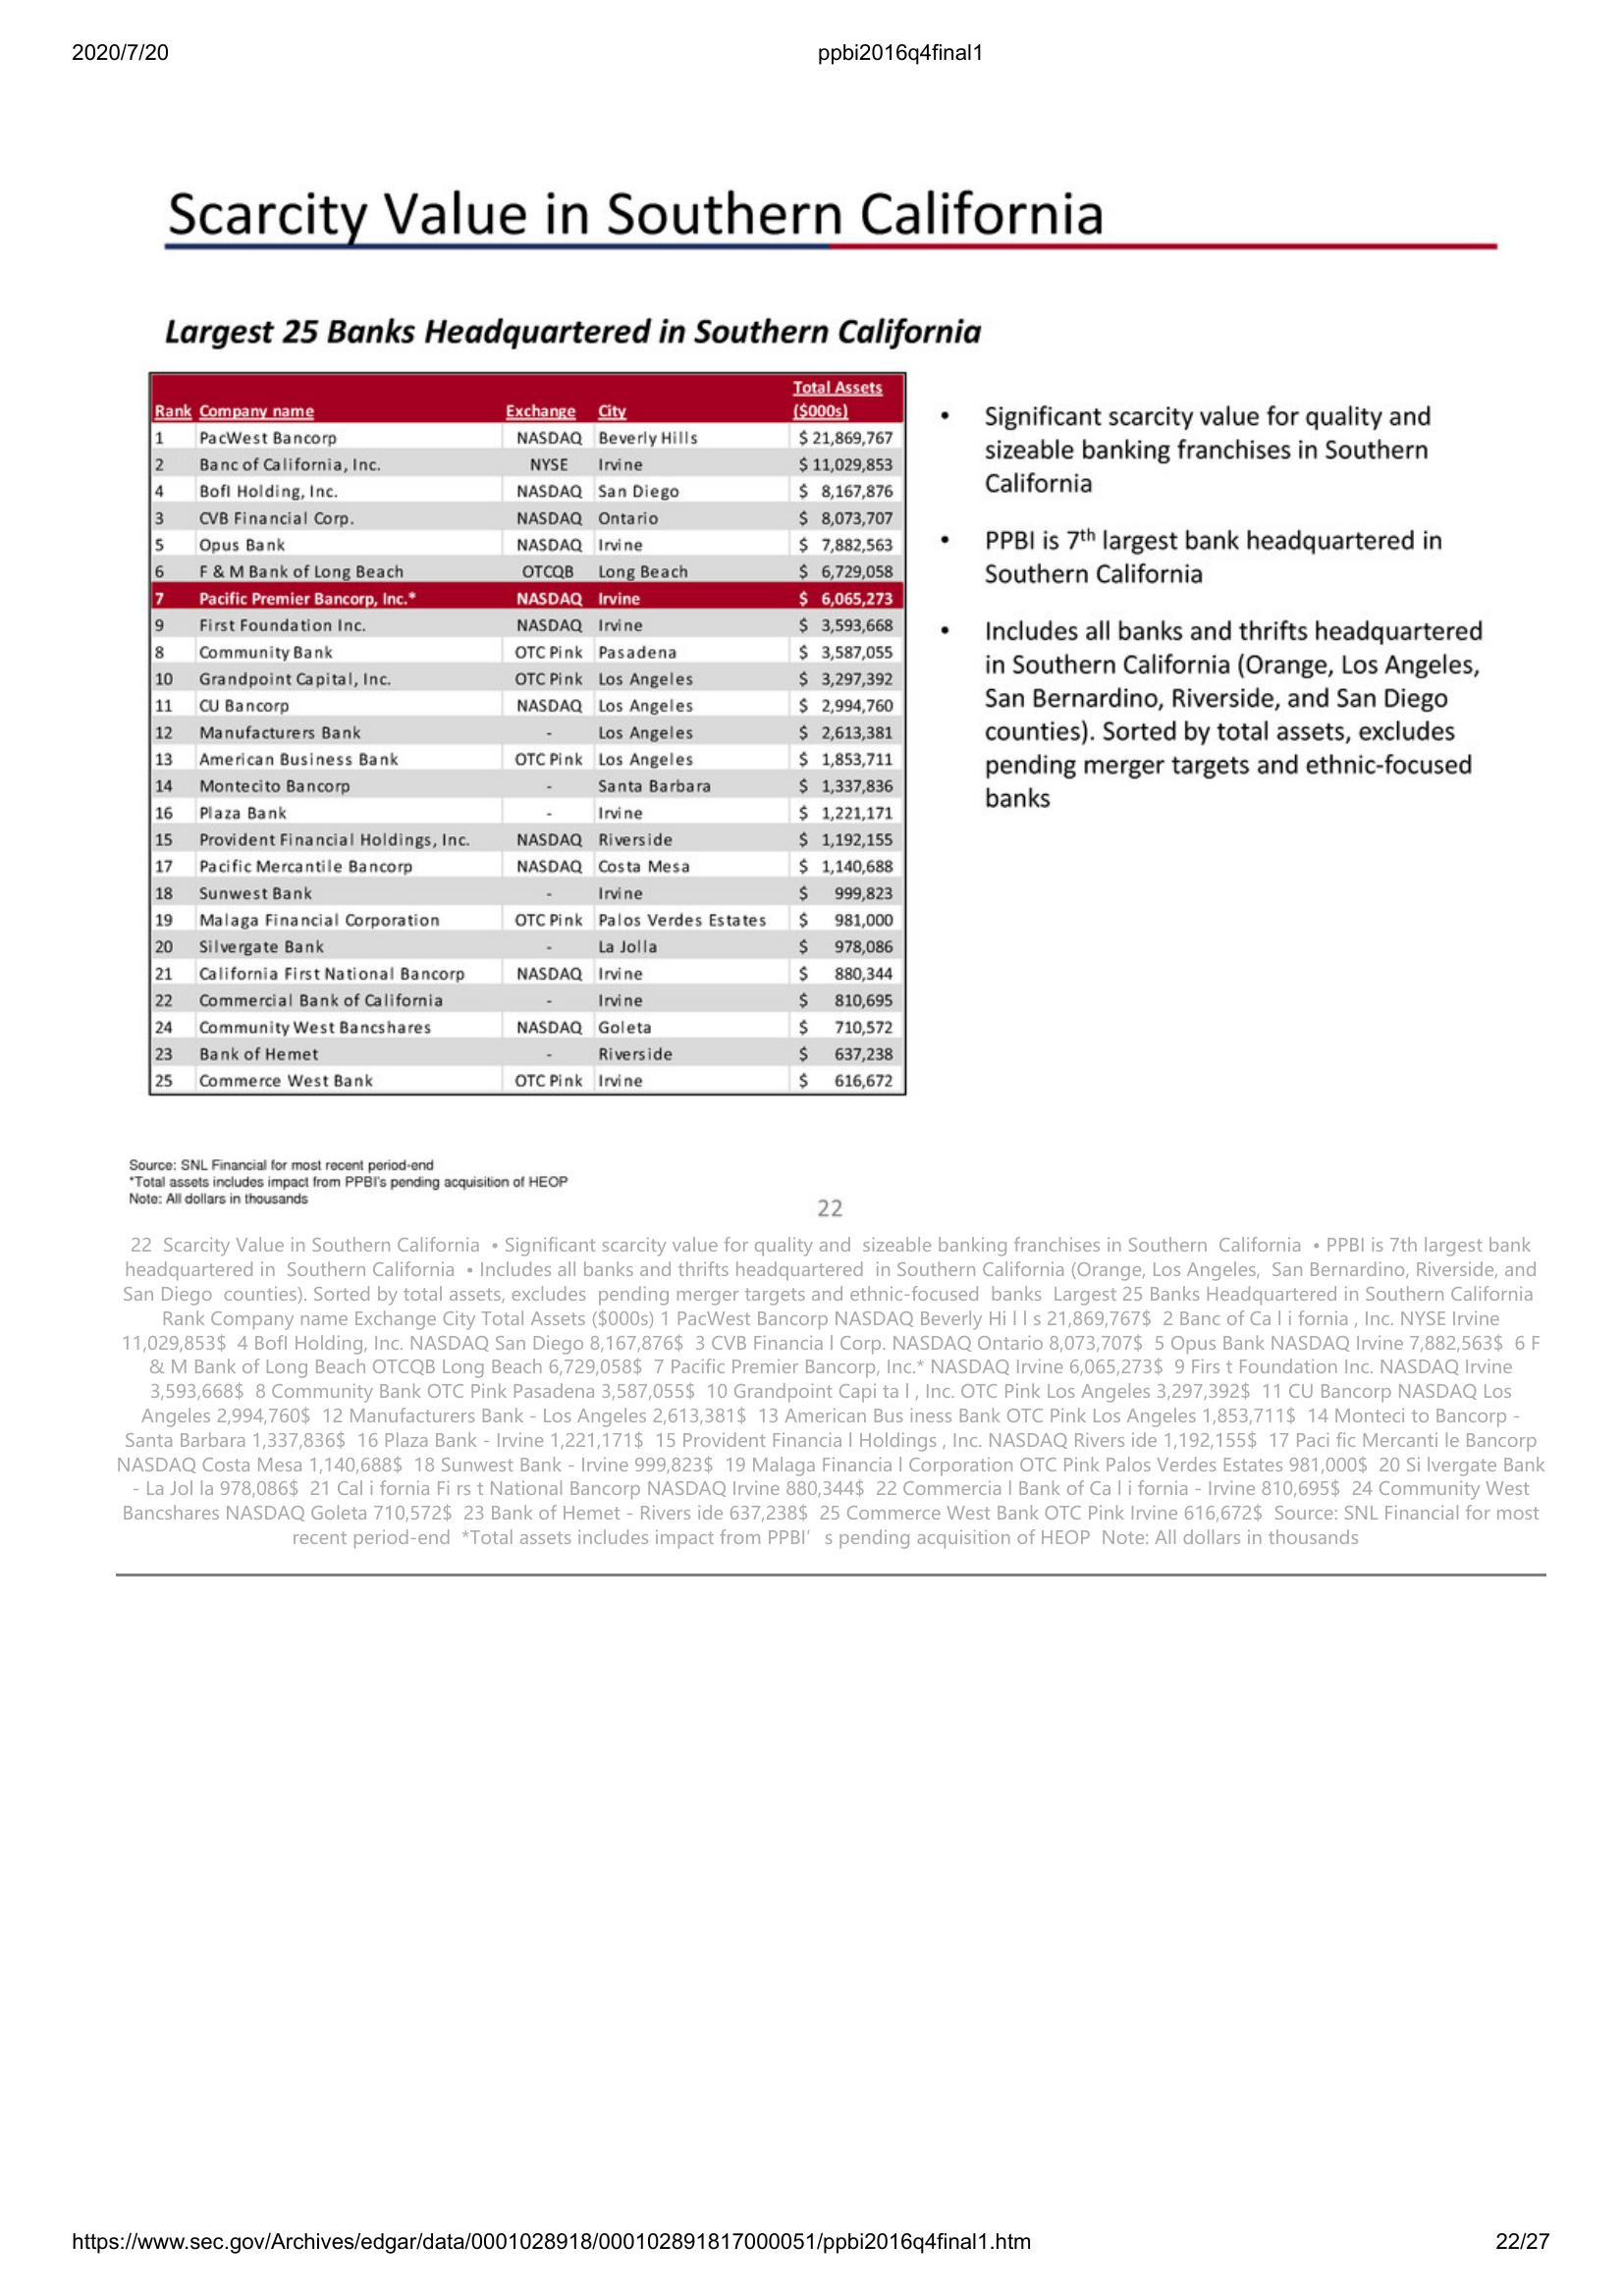table: (144, 367, 915, 1102)
